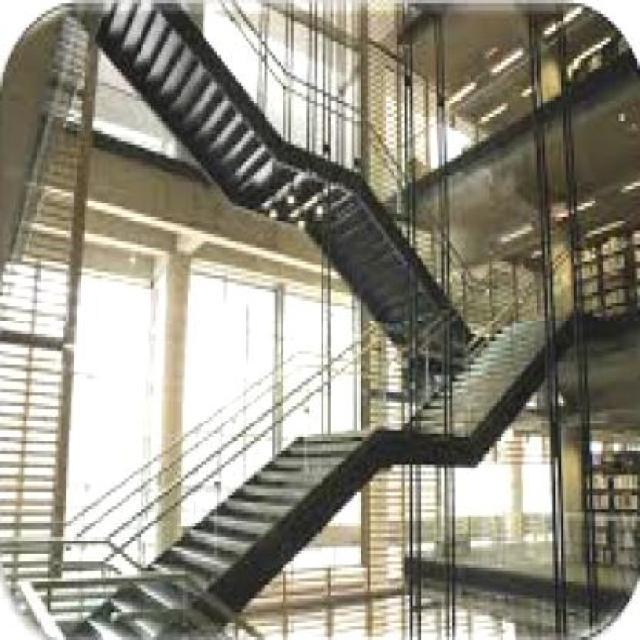stair: (66, 276, 580, 638)
